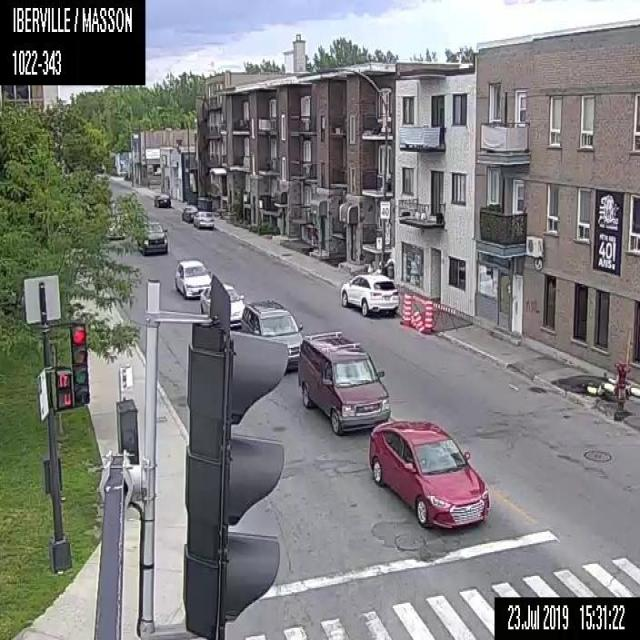construction: (548, 362, 630, 402), (412, 293, 459, 334), (399, 290, 412, 324), (424, 299, 434, 334), (412, 308, 424, 334)
vehicle: (367, 418, 490, 530), (296, 330, 391, 436), (240, 296, 302, 374), (339, 271, 399, 316), (199, 282, 244, 330), (173, 257, 211, 298), (136, 220, 168, 255), (192, 209, 214, 228), (180, 204, 197, 222), (152, 193, 170, 207)
